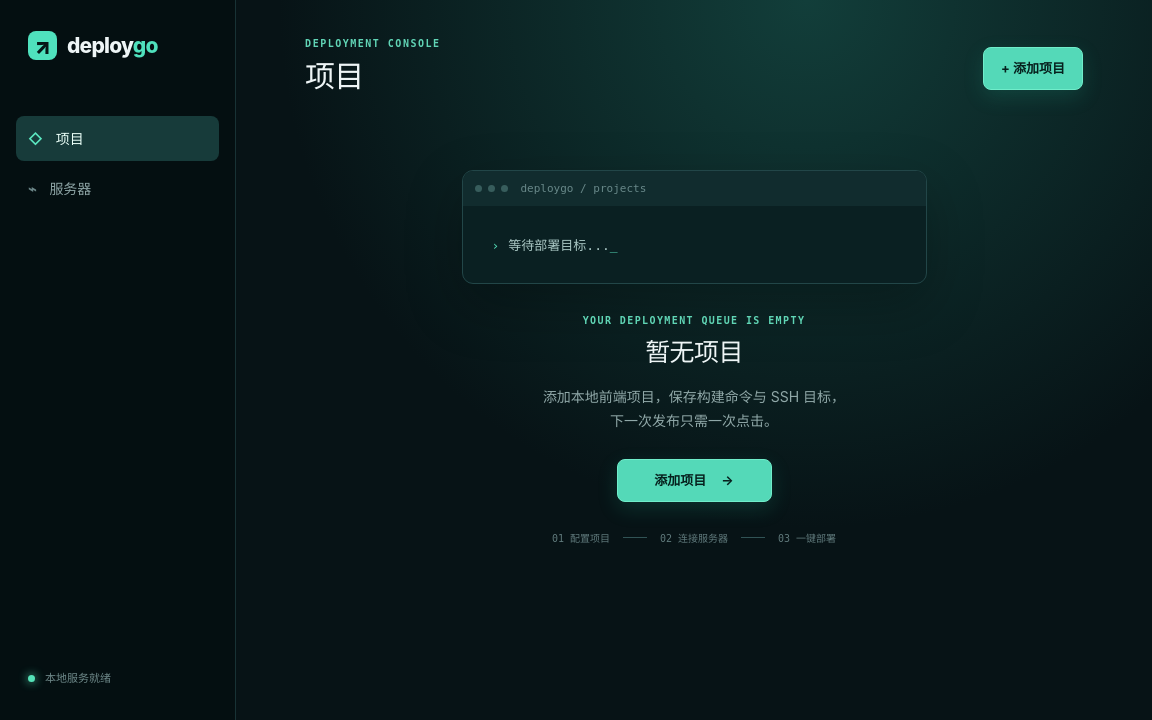
opens the server configuration form
Click the button "⌁ 服务器": (118, 188) [16, 166, 219, 210]
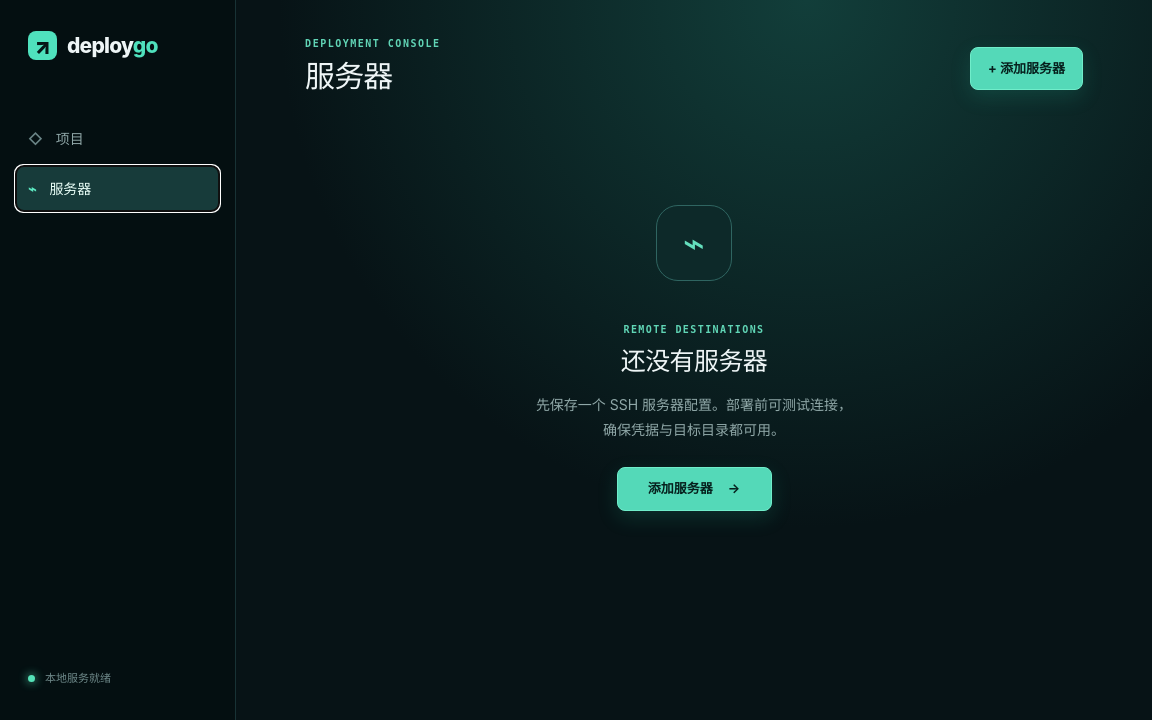
Click the button "+ 添加服务器": (1026, 69) [970, 47, 1083, 90]
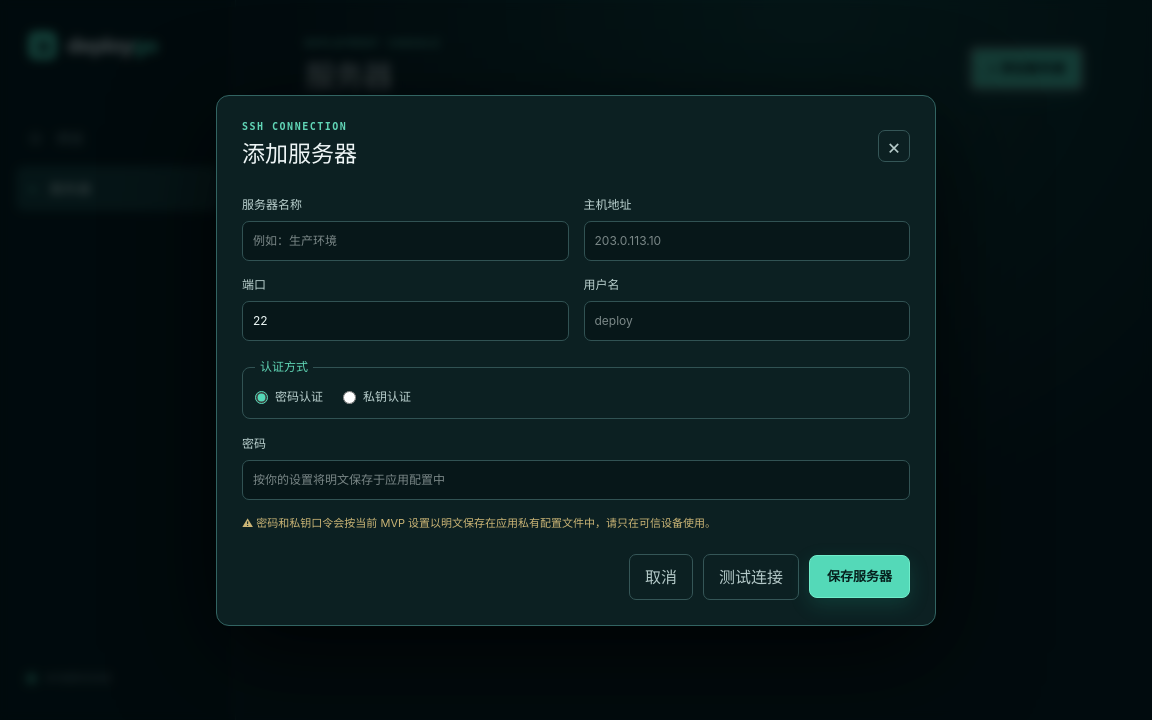
expect the heading "添加服务器" is shown: met, box [242, 136, 357, 171]
expect the field labelled "主机地址" is shown: met, box [584, 221, 910, 261]
